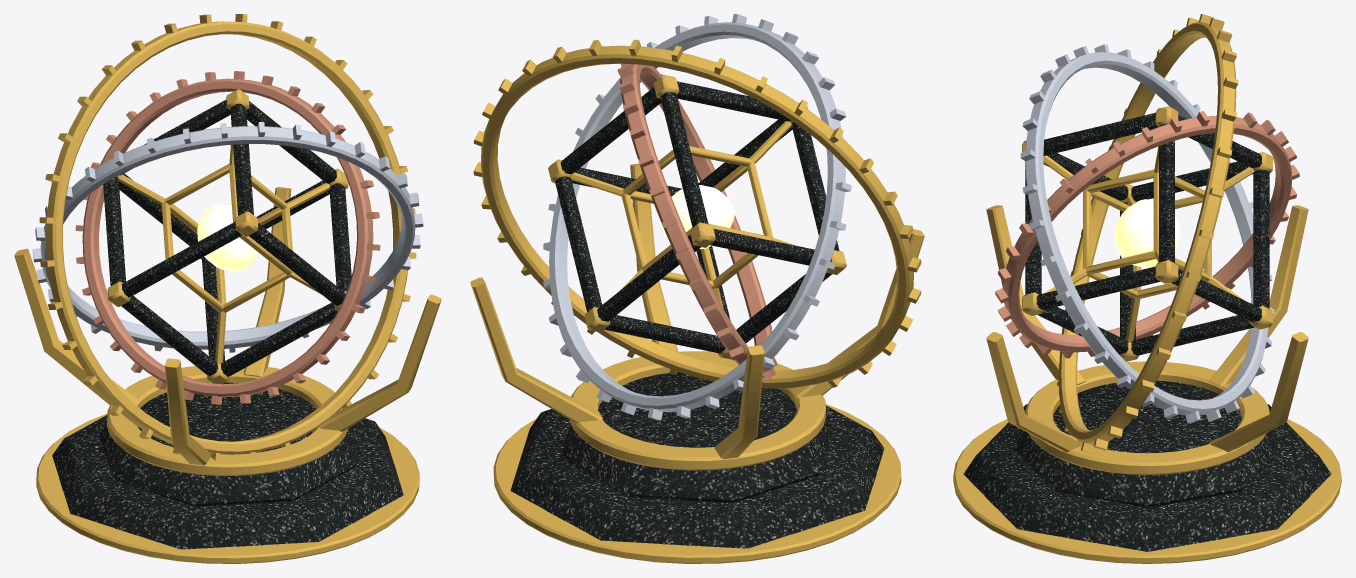
The model's file is relic_apex_ledger.glb.
3 renders of one model, left to right at view 1: azimuth 30°, elevation 25°; view 2: azimuth 150°, elevation 25°; view 3: azimuth 270°, elevation 25°, orthographic. The views are drawn at different scales.
Visible parts, largest first — view 1: Ledger_Pedestal_Obsidian, Ledger_Pedestal_Gold, Ledger_Orbital_0_Mesh, Ledger_Tesseract_Obsidian, Ledger_Orbital_2_Mesh, Ledger_Orbital_1_Mesh, Ledger_Tesseract_Gold, Ledger_Crystal_Heart; view 2: Ledger_Pedestal_Obsidian, Ledger_Pedestal_Gold, Ledger_Orbital_0_Mesh, Ledger_Tesseract_Obsidian, Ledger_Orbital_1_Mesh, Ledger_Orbital_2_Mesh, Ledger_Tesseract_Gold, Ledger_Crystal_Heart; view 3: Ledger_Pedestal_Obsidian, Ledger_Pedestal_Gold, Ledger_Tesseract_Obsidian, Ledger_Orbital_1_Mesh, Ledger_Orbital_0_Mesh, Ledger_Orbital_2_Mesh, Ledger_Tesseract_Gold, Ledger_Crystal_Heart.
Part boxes in pixels (x1=…): Ledger_Pedestal_Obsidian: x1=52, y1=382, x2=403, y2=549; Ledger_Pedestal_Gold: x1=14, y1=187, x2=441, y2=563; Ledger_Orbital_0_Mesh: x1=39, y1=14, x2=416, y2=460; Ledger_Tesseract_Obsidian: x1=103, y1=100, x2=351, y2=376; Ledger_Orbital_2_Mesh: x1=75, y1=71, x2=380, y2=404; Ledger_Orbital_1_Mesh: x1=32, y1=122, x2=423, y2=352; Ledger_Tesseract_Gold: x1=99, y1=89, x2=348, y2=383; Ledger_Crystal_Heart: x1=197, y1=204, x2=257, y2=271; Ledger_Pedestal_Obsidian: x1=510, y1=372, x2=884, y2=548; Ledger_Pedestal_Gold: x1=470, y1=163, x2=924, y2=563; Ledger_Orbital_0_Mesh: x1=473, y1=39, x2=921, y2=388; Ledger_Tesseract_Obsidian: x1=555, y1=81, x2=839, y2=353; Ledger_Orbital_1_Mesh: x1=543, y1=14, x2=851, y2=420; Ledger_Orbital_2_Mesh: x1=617, y1=63, x2=777, y2=382; Ledger_Tesseract_Gold: x1=548, y1=75, x2=846, y2=359; Ledger_Crystal_Heart: x1=660, y1=185, x2=734, y2=248; Ledger_Pedestal_Obsidian: x1=963, y1=380, x2=1331, y2=551; Ledger_Pedestal_Gold: x1=953, y1=205, x2=1341, y2=563; Ledger_Tesseract_Obsidian: x1=1025, y1=112, x2=1269, y2=355; Ledger_Orbital_1_Mesh: x1=1020, y1=44, x2=1274, y2=423; Ledger_Orbital_0_Mesh: x1=1057, y1=14, x2=1238, y2=453; Ledger_Orbital_2_Mesh: x1=995, y1=111, x2=1299, y2=358; Ledger_Tesseract_Gold: x1=1022, y1=106, x2=1272, y2=361; Ledger_Crystal_Heart: x1=1114, y1=199, x2=1180, y2=268.
Bounding box in the file's own units: 0.8541 × 0.9257 × 0.736.
Materials: 5 (1 with a texture image).
